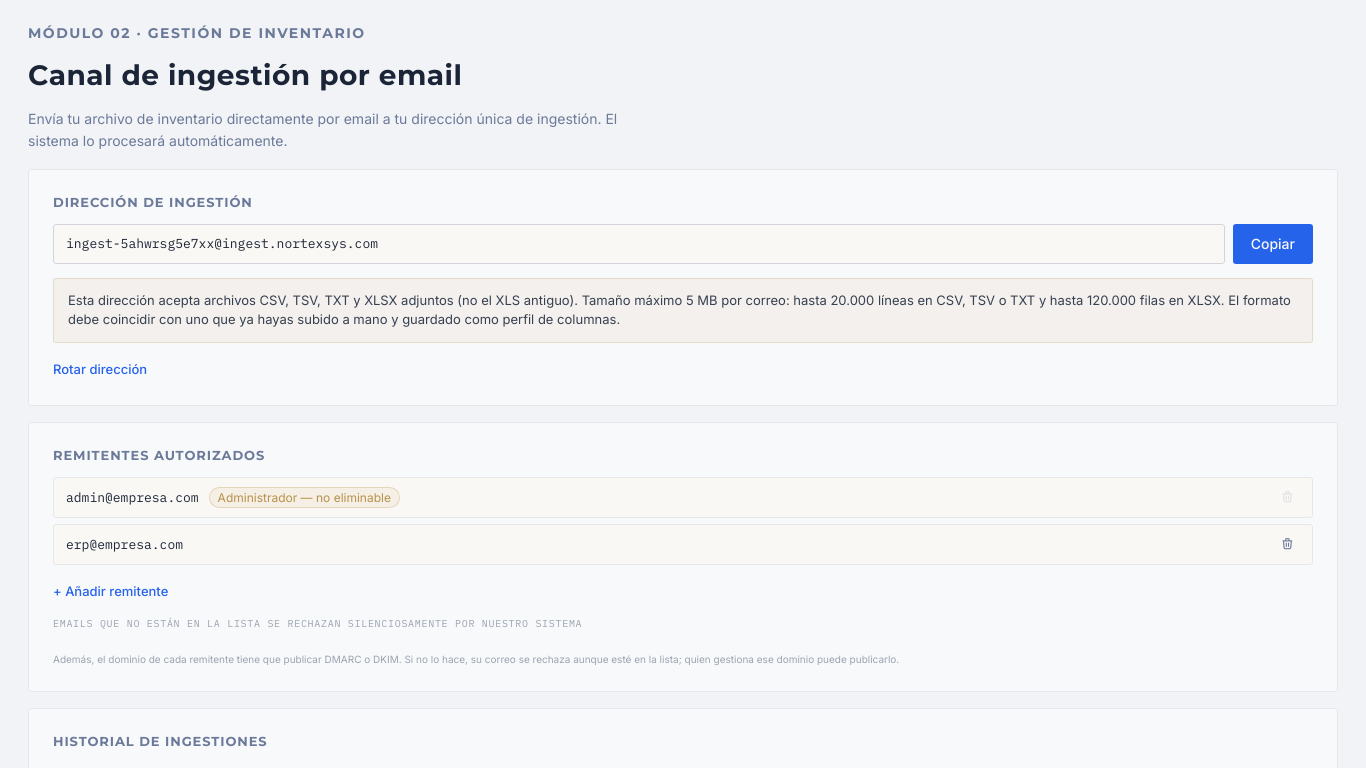
Test: INV-04 · IngestChannel › rotar pide confirmación y NO rota hasta confirmar
Expected: the field with test id "ingest-address" is shown, [53,224,1225,264]
Click the button "Rotar dirección".
click(100, 369)  # box [53,357,147,381]
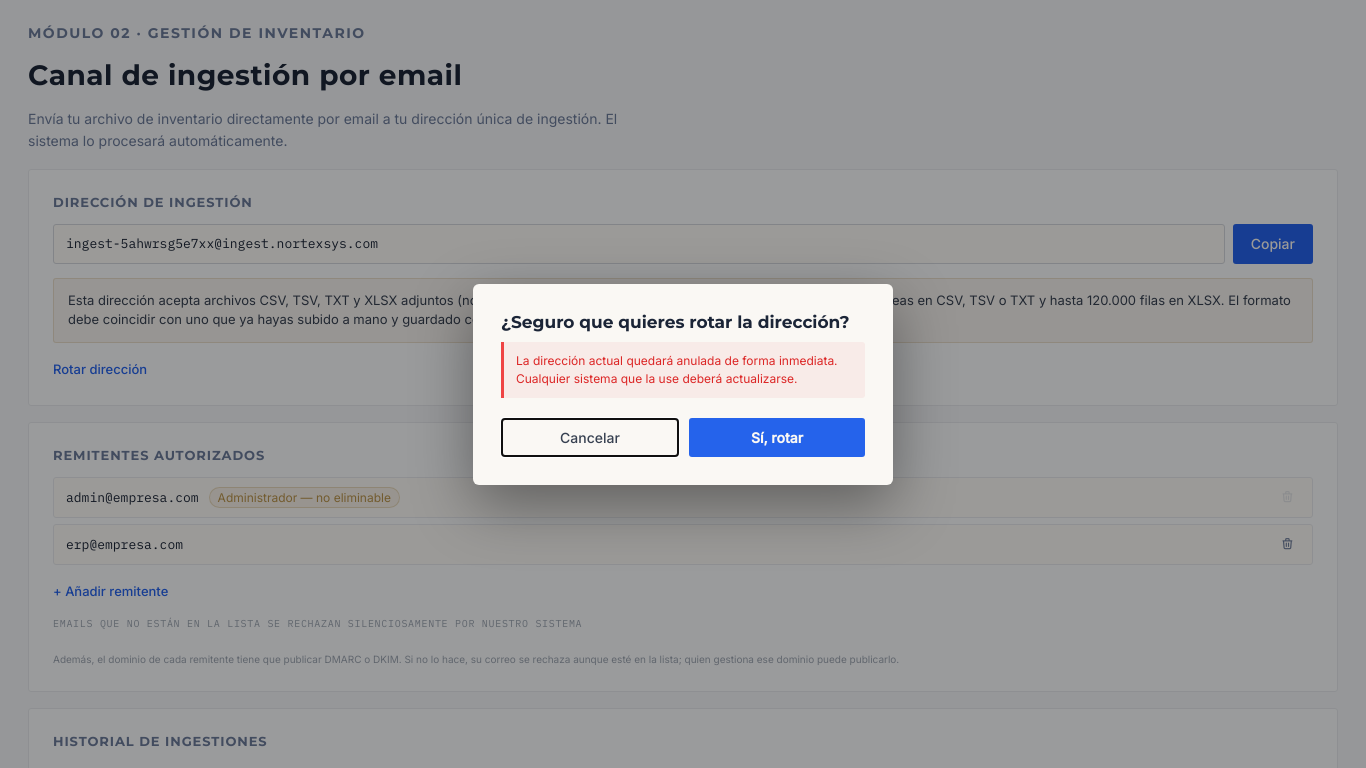
Expected: the text "quedará anulada de forma inmediata" is shown, [516,352,838,386]
Click the button "Cancelar".
click(590, 437)  # box [501,418,679,456]
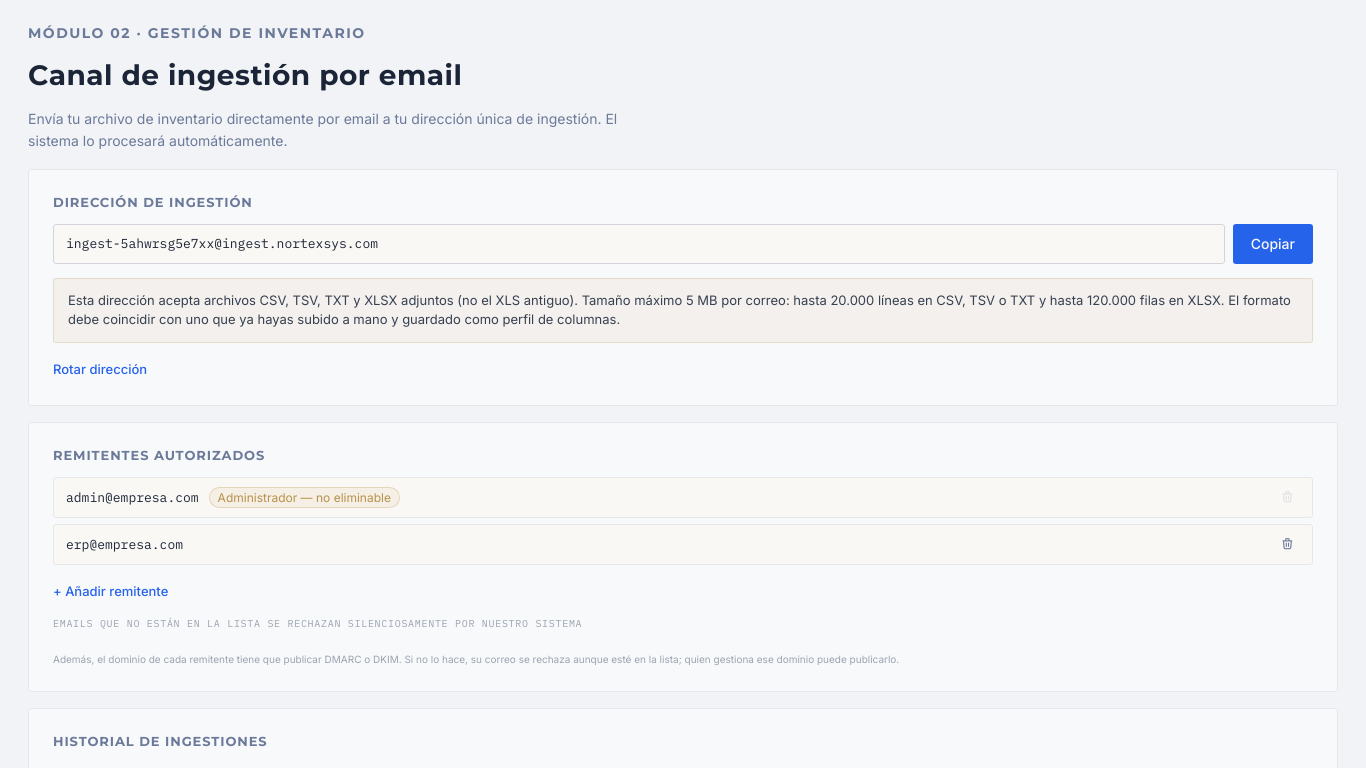
Expected: the field with test id "ingest-address" holds "ingest-5ahwrsg5e7xx@ingest.nortexsys.com", [53,224,1225,264]
Expected: the dialog is gone
